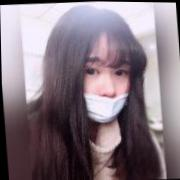WRONG: (68, 47, 136, 126)
